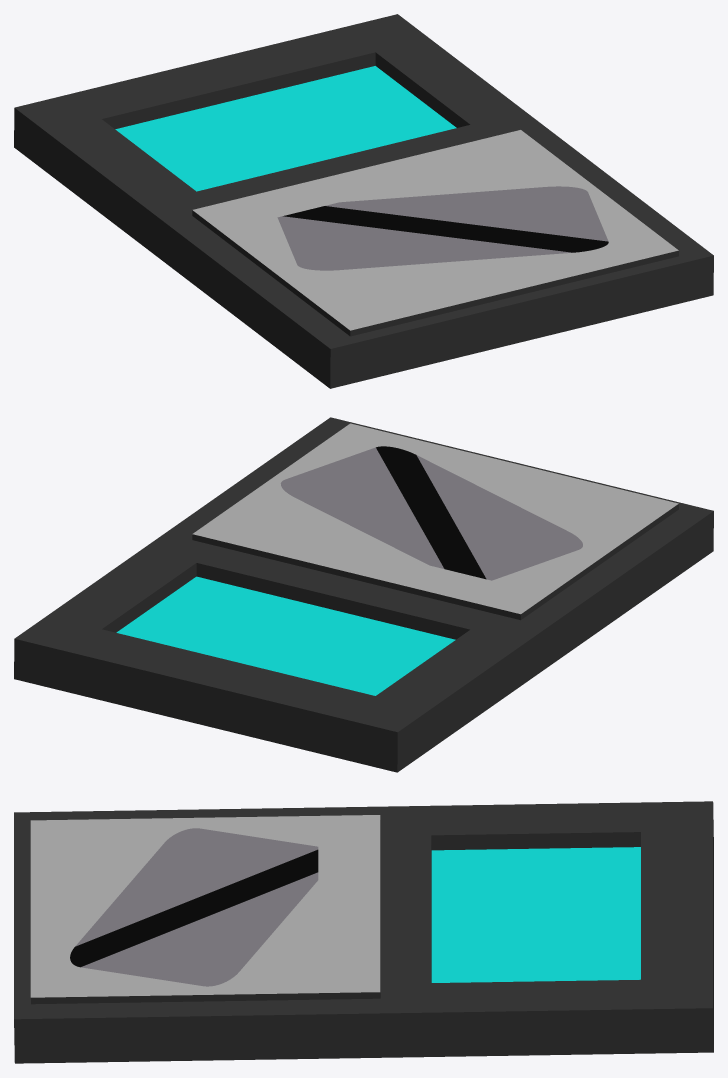
Rendered from KeyPad.fbx.
3 views of the same model, one above another, from view 1: azimuth 30°, elevation 25°; view 2: azimuth 150°, elevation 25°; view 3: azimuth 270°, elevation 25° (orthographic). The views are drawn at different scales.
Parts seen in each view (by area): view 1: 보안키패드; view 2: 보안키패드; view 3: 보안키패드.
Part boxes in pixels (bbox=[...]): 보안키패드: bbox=[14, 14, 713, 388]; 보안키패드: bbox=[14, 417, 713, 772]; 보안키패드: bbox=[14, 801, 713, 1063].
Size of the model in its own units: 70 by 8.94 by 100.
